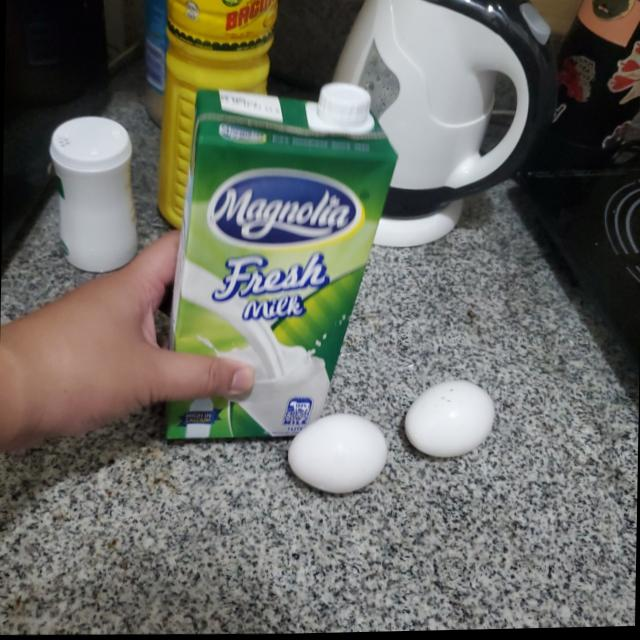egg: (286, 413, 388, 497), (402, 380, 494, 461)
milk: (162, 83, 398, 444)
